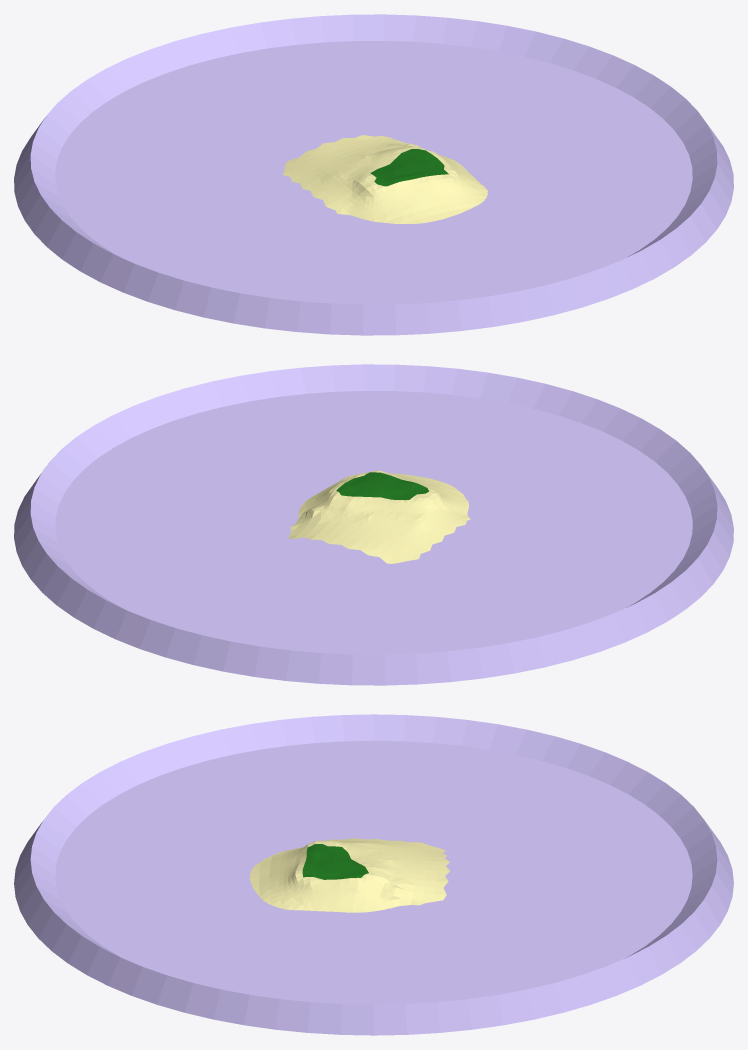
The model's file is Island.FBX.
3 renders of one model, top to bottom at view 1: azimuth 30°, elevation 25°; view 2: azimuth 150°, elevation 25°; view 3: azimuth 270°, elevation 25°, orthographic.
Visible parts, largest first — view 1: Bottom, Plane001; view 2: Bottom, Plane001; view 3: Bottom, Plane001.
Boxes of the visible parts, box(x1,y1,x2,y2) form: Bottom: box(14, 14, 733, 335); Plane001: box(283, 135, 487, 223); Bottom: box(14, 364, 733, 685); Plane001: box(288, 470, 470, 563); Bottom: box(14, 714, 733, 1035); Plane001: box(249, 838, 449, 912).
Size of the model in its own units: 4929 by 216 by 4929.
1 material, 1 textured.
